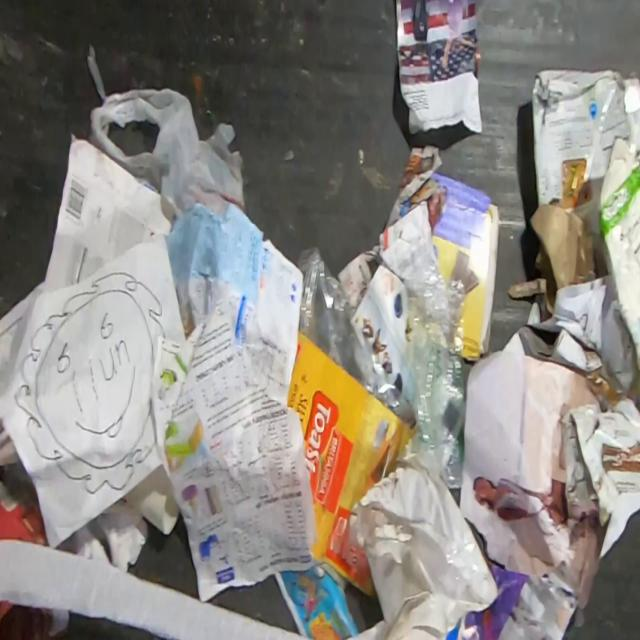cardboard: (286, 331, 417, 598), (531, 67, 639, 280), (44, 140, 172, 293), (558, 392, 640, 558), (506, 200, 598, 316), (598, 137, 640, 375), (0, 462, 51, 548), (0, 599, 72, 640)
soft_plastic: (344, 432, 500, 640), (86, 41, 249, 222), (298, 246, 416, 429), (404, 258, 467, 488)
